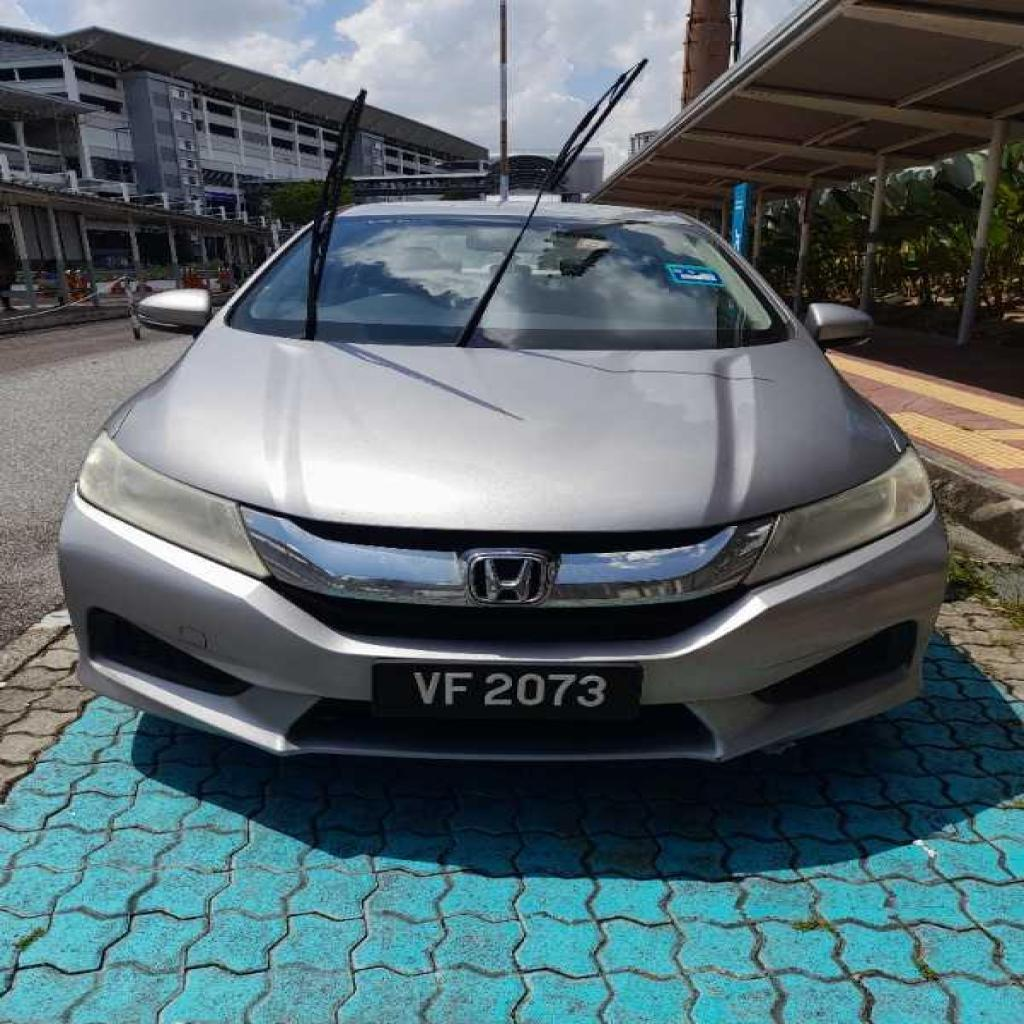car: (58, 204, 944, 758)
car plate: (370, 662, 637, 718)
